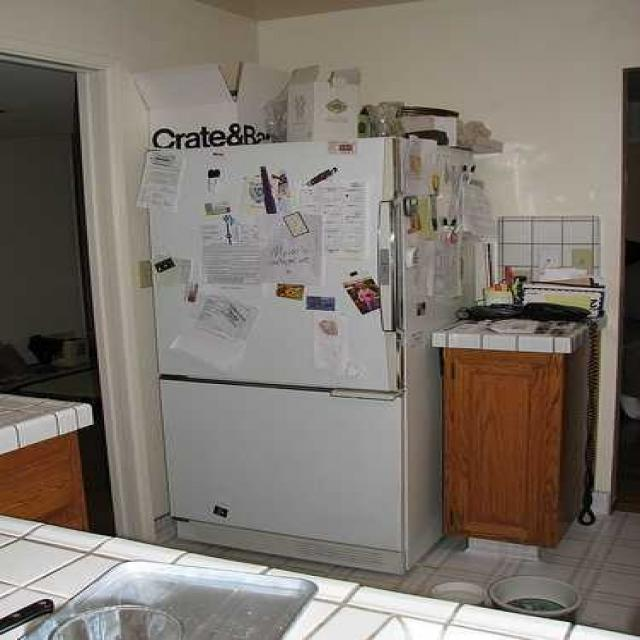refrigerator: (148, 136, 408, 556)
